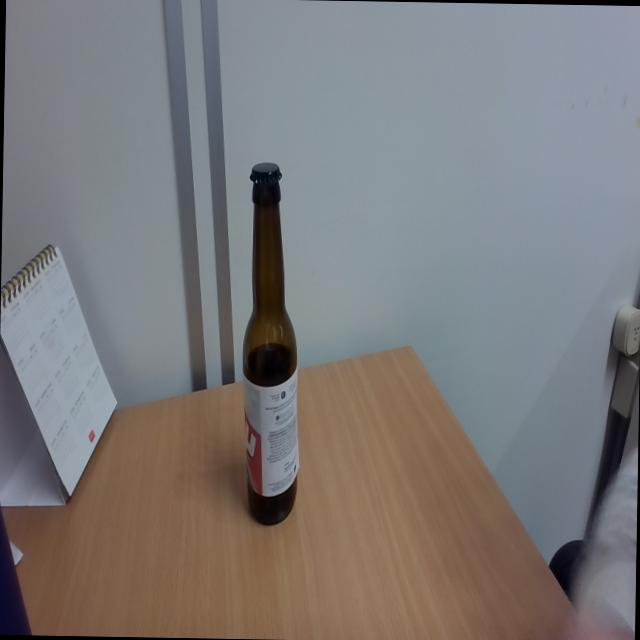Bottle: (238, 158, 305, 524)
Cap: (247, 157, 288, 187)
Label: (240, 369, 298, 494)
